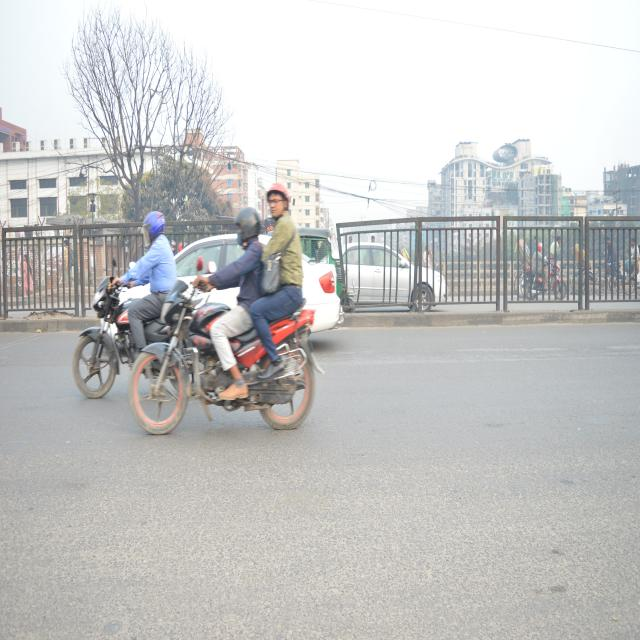car: (341, 244, 452, 327)
microbus: (162, 215, 341, 338)
motorbike: (126, 305, 318, 448), (72, 271, 177, 400), (509, 250, 568, 322)
